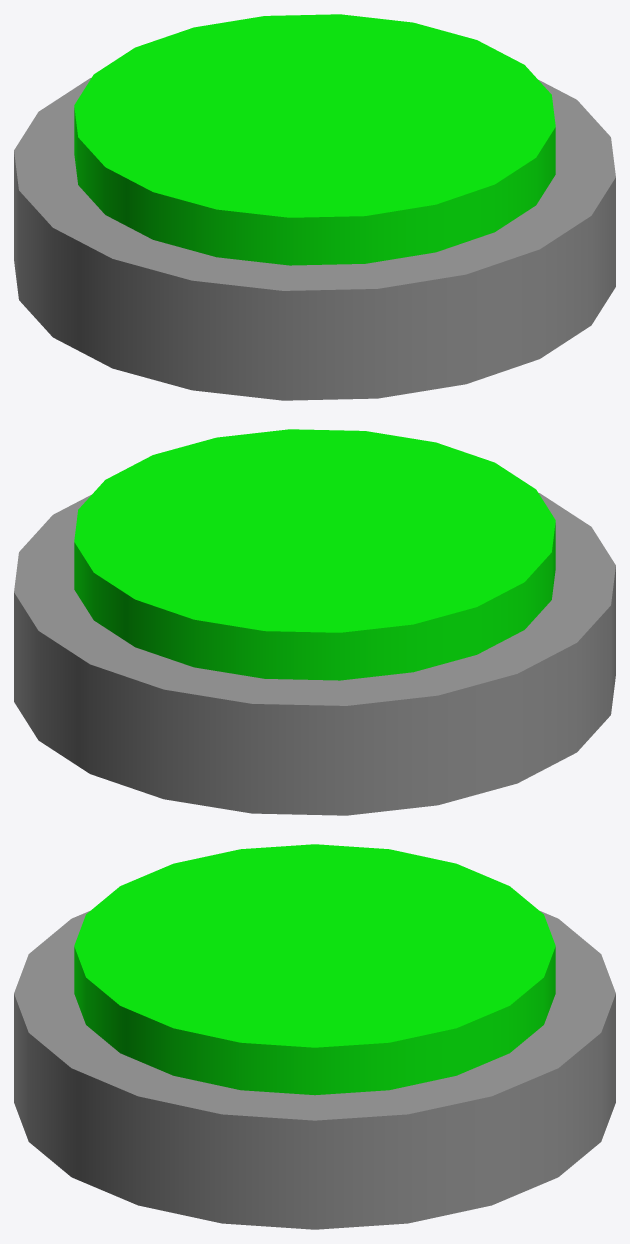
The model's file is CharaSpawner.fbx.
3 renders of one model, top to bottom at view 1: azimuth 30°, elevation 25°; view 2: azimuth 150°, elevation 25°; view 3: azimuth 270°, elevation 25°, orthographic.
Visible parts, largest first — view 1: Cylinder__1_, Cylinder; view 2: Cylinder__1_, Cylinder; view 3: Cylinder__1_, Cylinder.
Part boxes in pixels (bbox=[...]): Cylinder__1_: bbox=[74, 14, 555, 265]; Cylinder: bbox=[14, 77, 615, 400]; Cylinder__1_: bbox=[74, 429, 555, 680]; Cylinder: bbox=[14, 492, 615, 815]; Cylinder__1_: bbox=[74, 844, 555, 1095]; Cylinder: bbox=[14, 911, 615, 1229].
Bounding box in the file's own units: 100 × 28.7 × 100.
